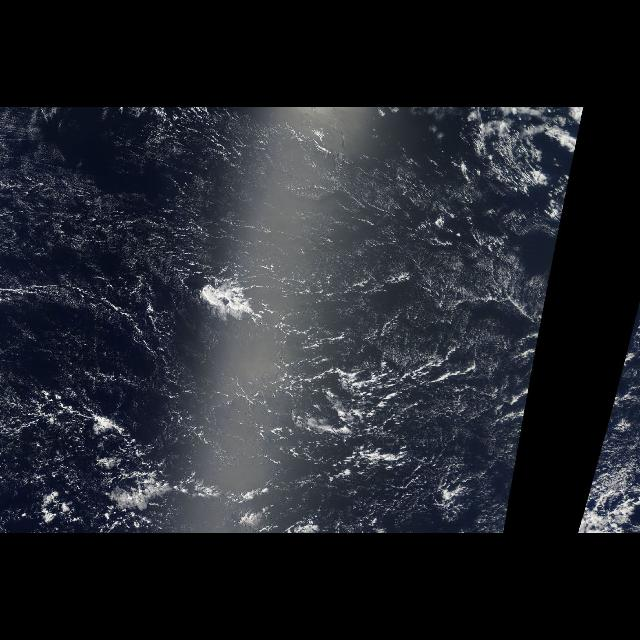Gravel: (227, 340, 477, 492)
Sugar: (0, 108, 546, 526)
